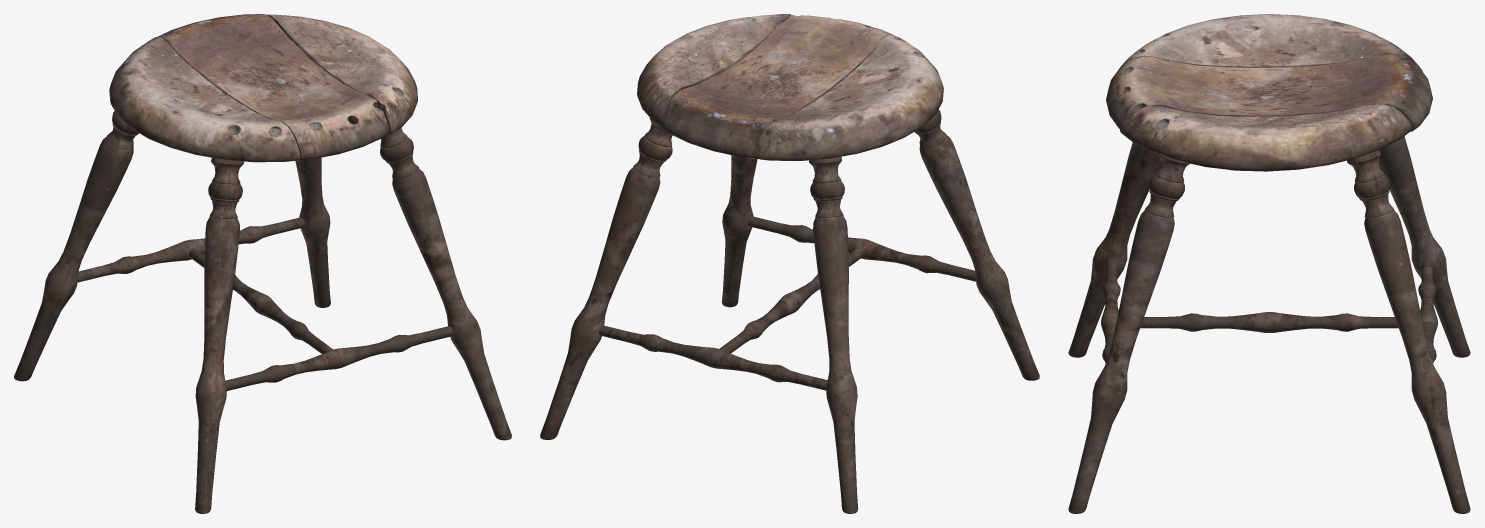
File: wooden_stool_01.glb
The picture shows the model from 3 angles, left to right: view 1: azimuth 30°, elevation 25°; view 2: azimuth 150°, elevation 25°; view 3: azimuth 270°, elevation 25°; orthographic projection. The views are drawn at different scales.
Visible parts, largest first — view 1: wooden_stool_01; view 2: wooden_stool_01; view 3: wooden_stool_01.
Part boxes in pixels (x1,y1,x2,y2): wooden_stool_01: [14, 14, 511, 513]; wooden_stool_01: [540, 14, 1039, 513]; wooden_stool_01: [1068, 14, 1470, 513].
Size of the model in its own units: 0.4254 by 0.4373 by 0.4424.
1 material, 1 textured.
